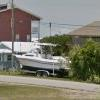Boat: (11, 45, 73, 86)
